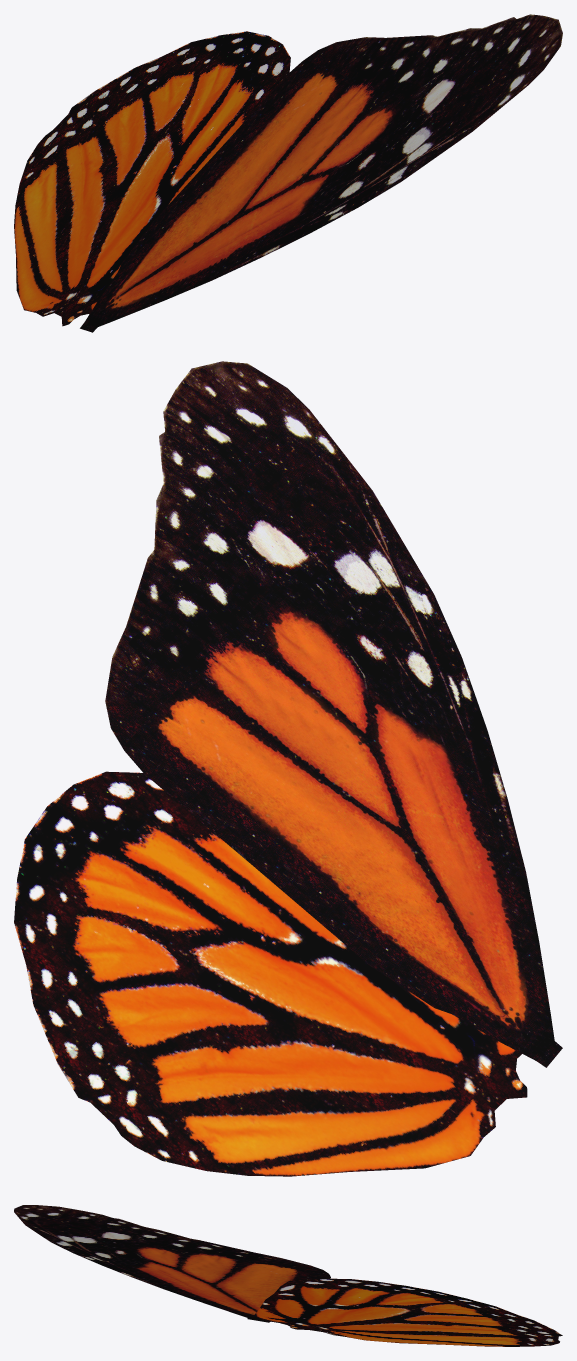
File: wing-left.obj
The picture shows the model from 3 angles, top to bottom: view 1: azimuth 30°, elevation 25°; view 2: azimuth 150°, elevation 25°; view 3: azimuth 270°, elevation 25°; orthographic projection. The views are drawn at different scales.
Parts seen in each view (by area): view 1: BUTT09, BUTT08; view 2: BUTT09, BUTT08; view 3: BUTT09, BUTT08.
Part boxes in pixels (x1=…): BUTT09: x1=80, y1=14, x2=562, y2=332; BUTT08: x1=14, y1=31, x2=290, y2=326; BUTT09: x1=105, y1=361, x2=562, y2=1067; BUTT08: x1=14, y1=771, x2=527, y2=1176; BUTT09: x1=14, y1=1205, x2=330, y2=1322; BUTT08: x1=255, y1=1278, x2=562, y2=1346.
Bounding box in the file's own units: 2435 × 2094 × 3571.
Materials: 2 (2 with a texture image).
